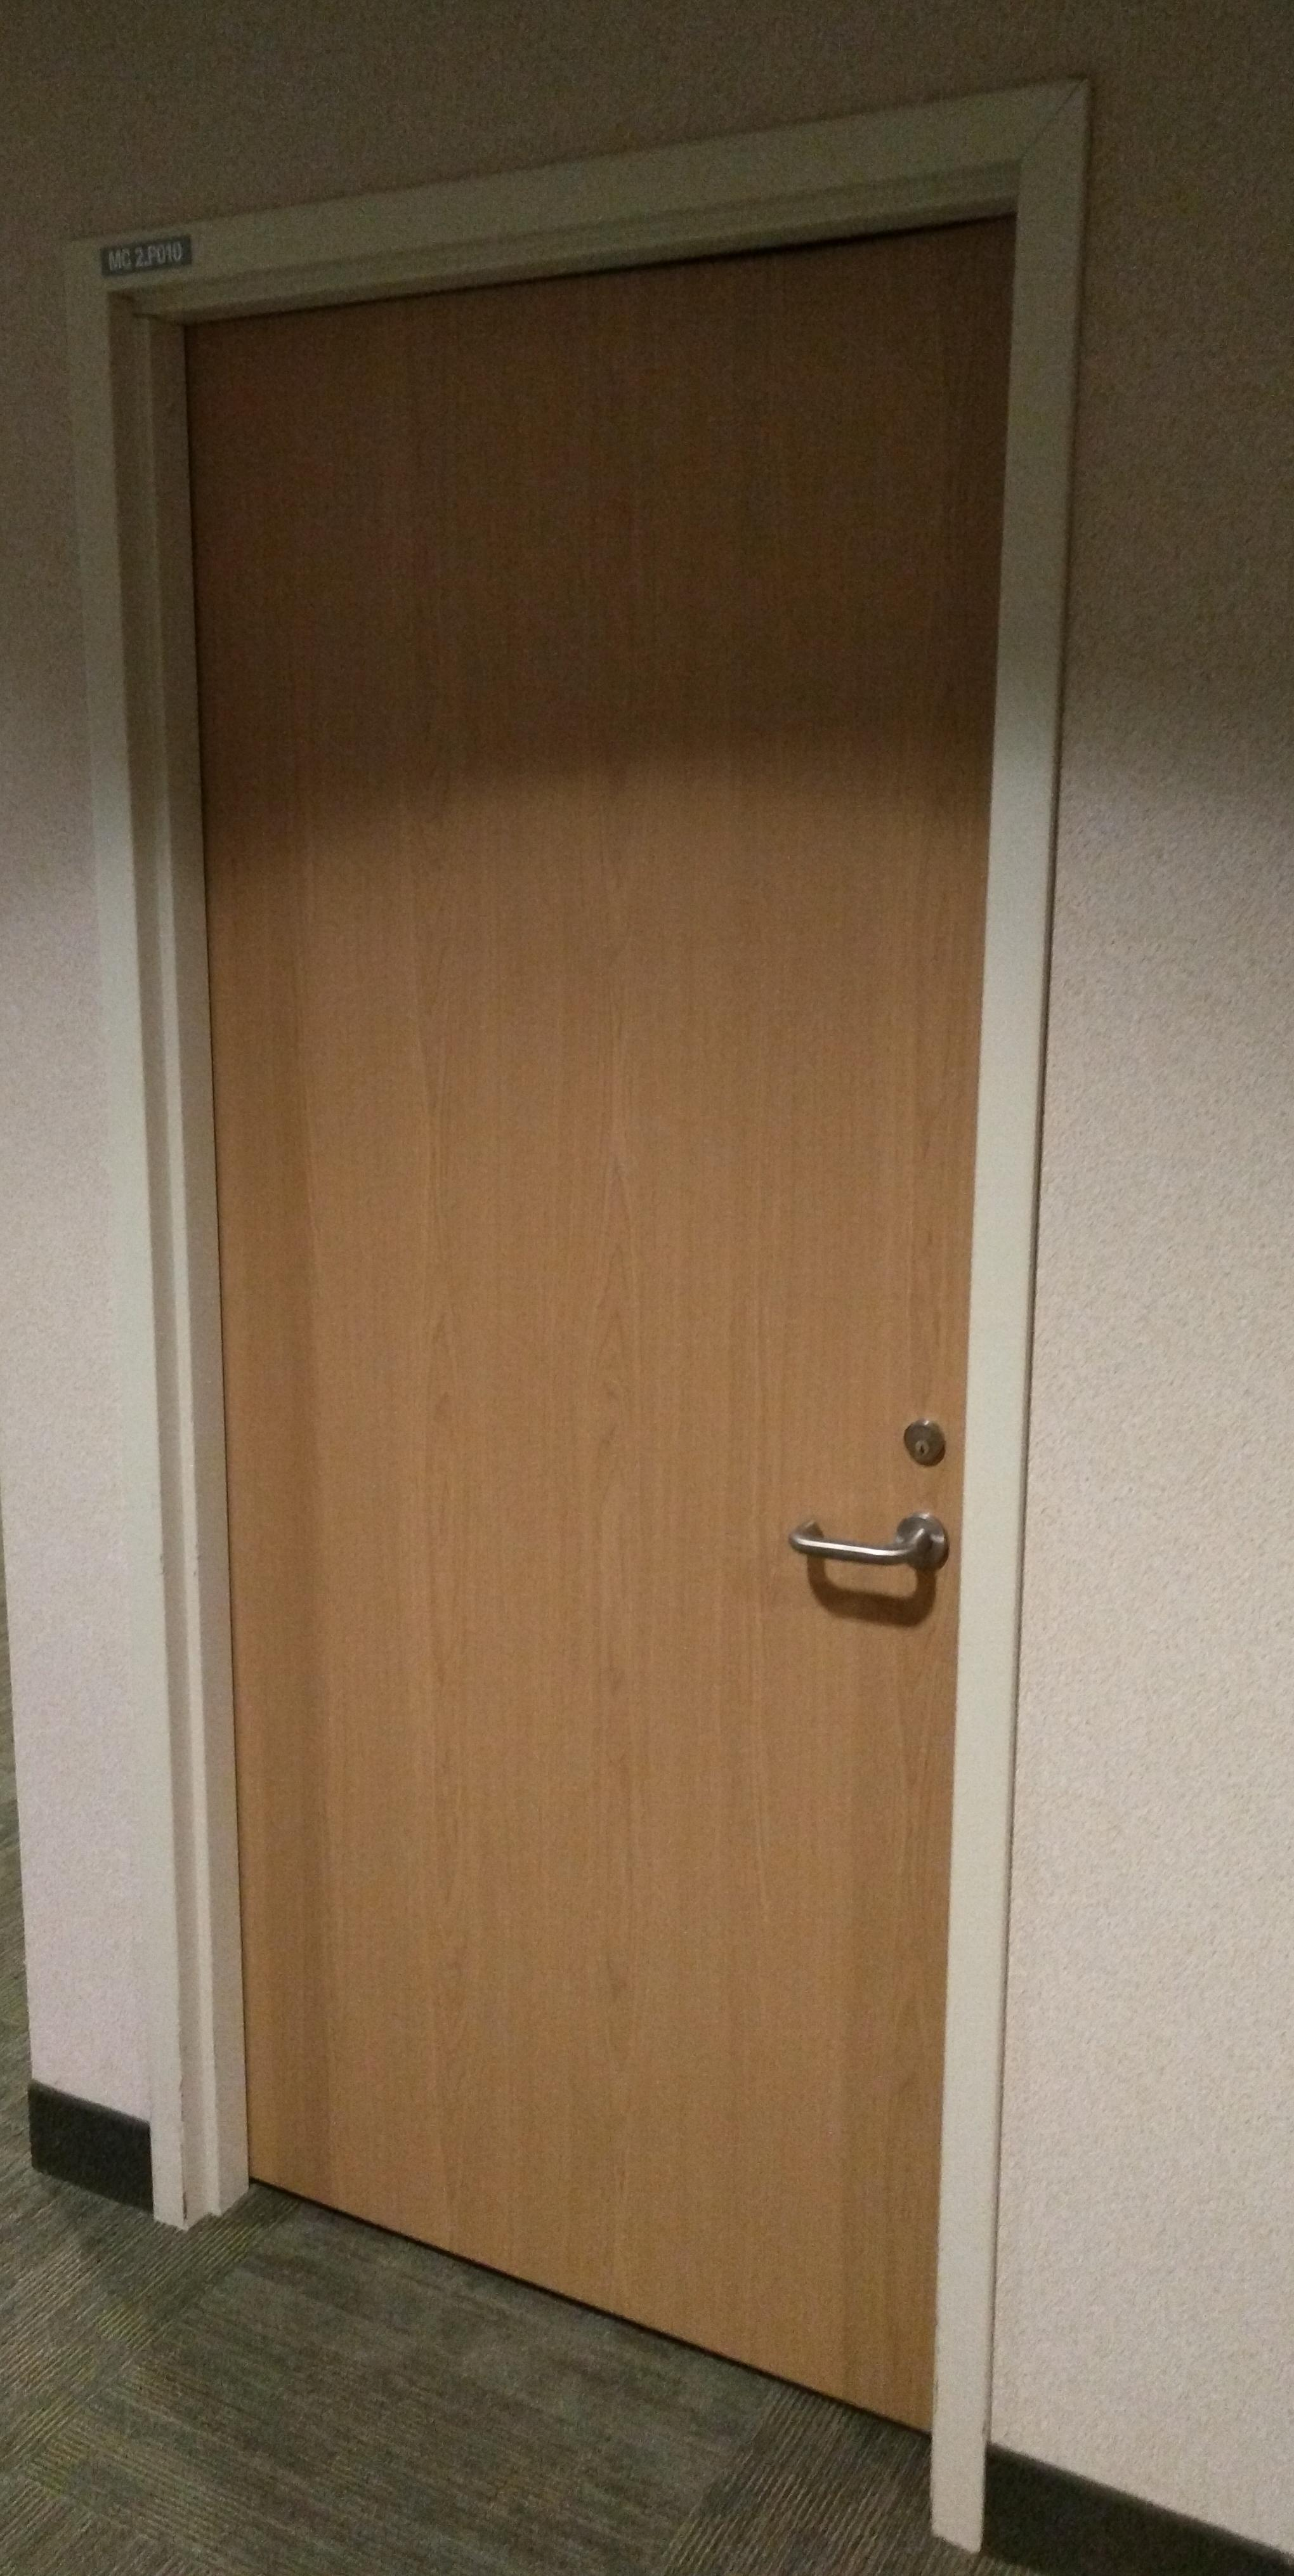door: (162, 162, 1030, 2378)
